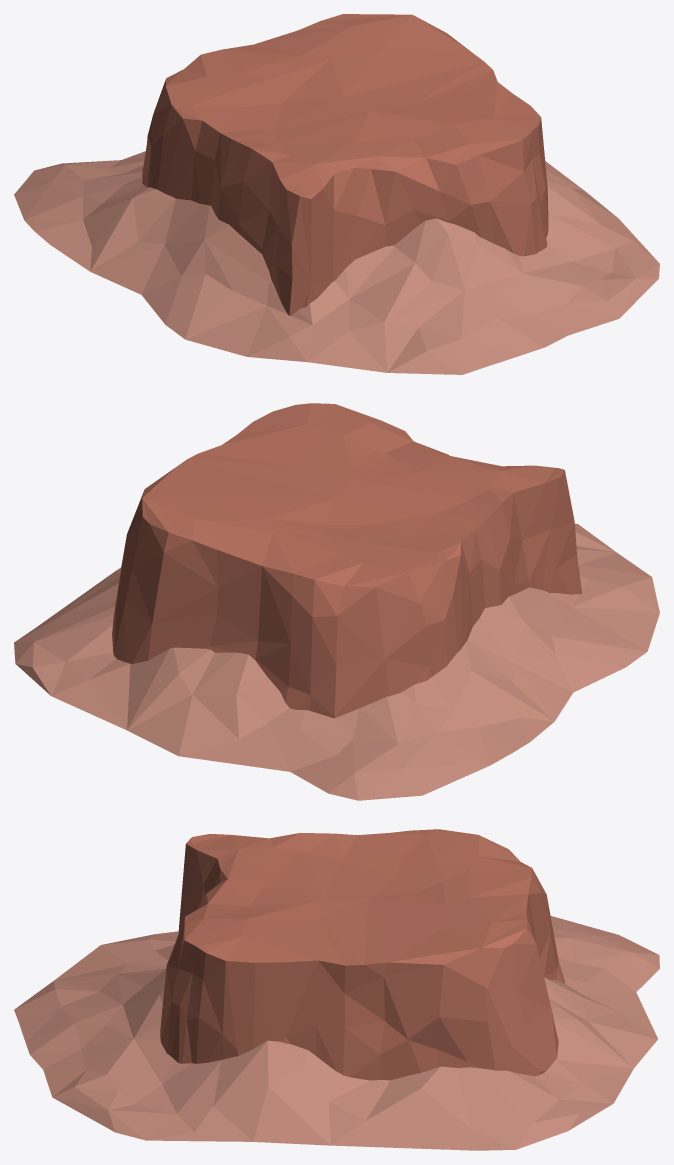
Rendered from crag_001.fbx.
3 renders of one model, top to bottom at view 1: azimuth 30°, elevation 25°; view 2: azimuth 150°, elevation 25°; view 3: azimuth 270°, elevation 25°, orthographic. The views are drawn at different scales.
Visible parts, largest first — view 1: crag_001; view 2: crag_001; view 3: crag_001.
Part boxes in pixels (x1,y1,x2,y2): crag_001: (14, 14, 659, 374); crag_001: (14, 403, 659, 800); crag_001: (14, 829, 659, 1150).
Bounding box in the file's own units: 6092 × 7178 × 2038.
